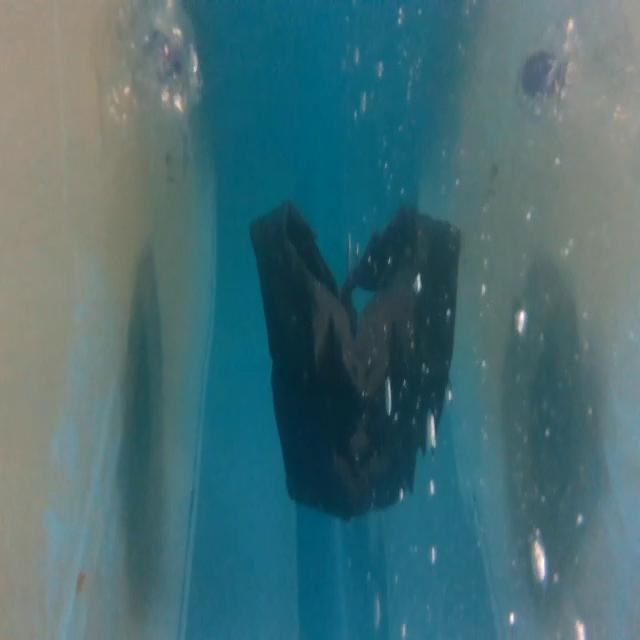plastic bags: (245, 195, 462, 525)
